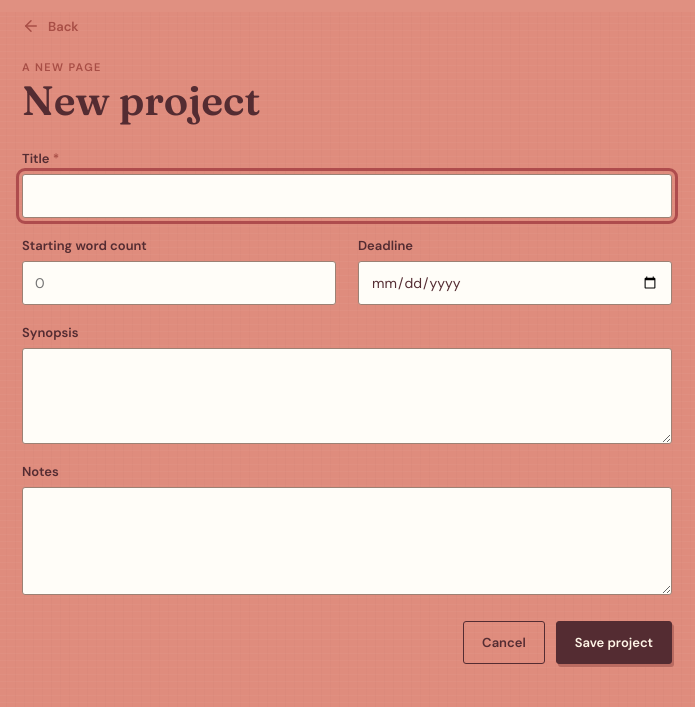
Test: ProjectForm › blocks a malformed starting count instead of saving it as zero
Type "Typo draft" into the field labelled "Title *" at (347, 196), box [22,174,672,218]
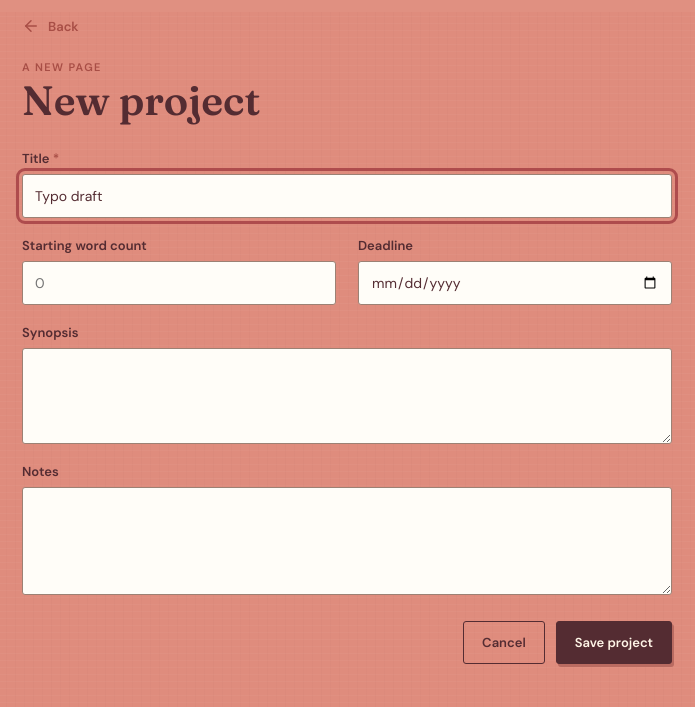
Type "1-" into the field labelled "Starting word count" at (179, 283), box [22,261,336,305]
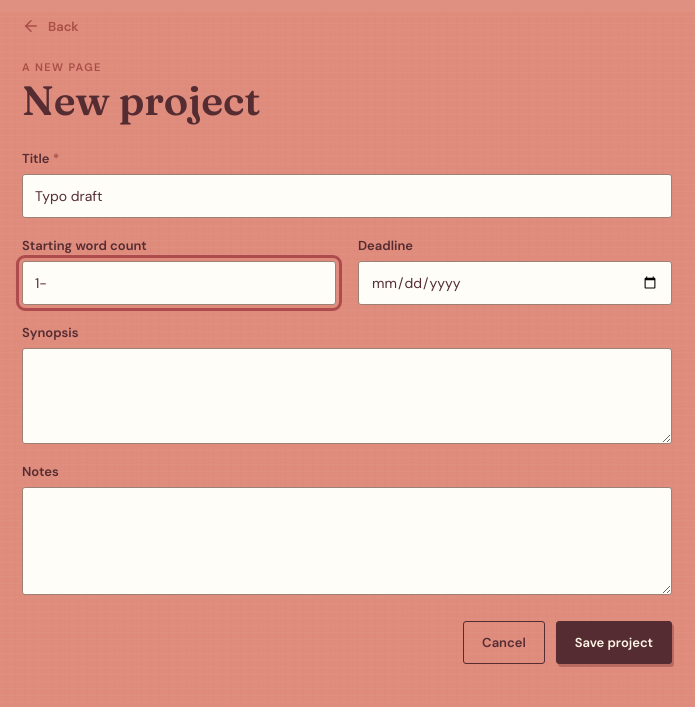
Click the button "Save project" at (614, 642), box [556,621,672,664]
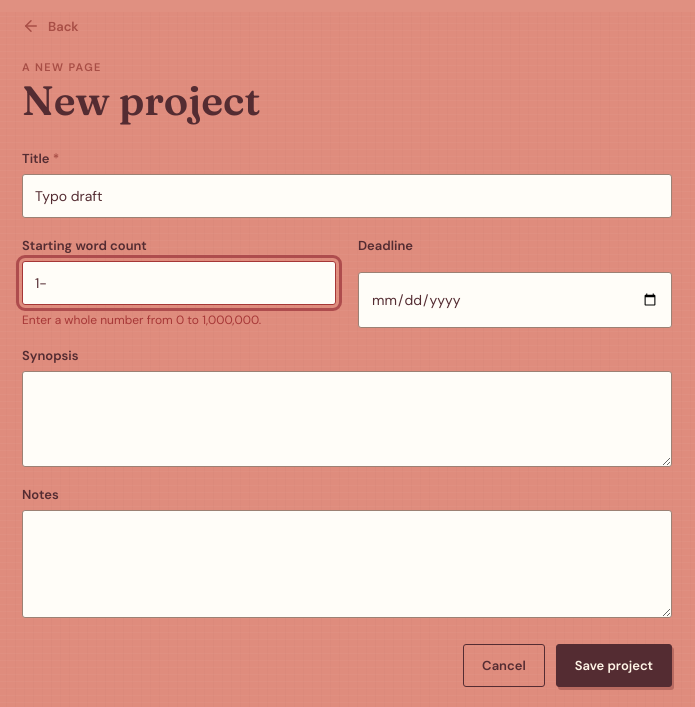
Result: the text "Enter a whole number from 0 to 1,000,000." is shown at [22,312,261,328]
